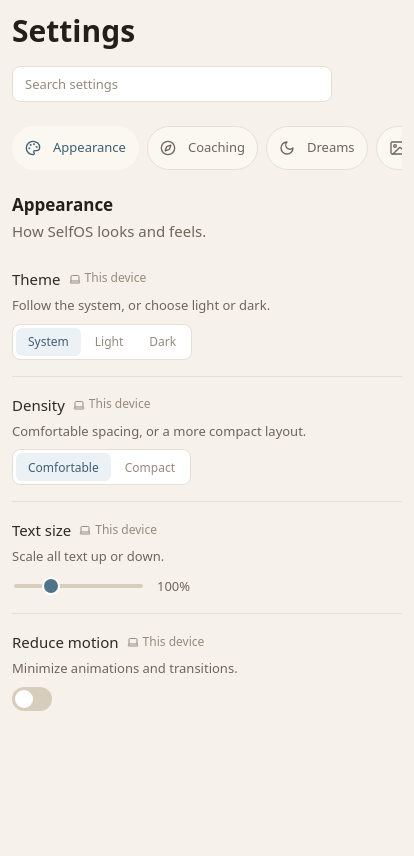
SettingsScreen › filters settings by search query
The image size is (414, 856).
In the field labelled "Search settings": (172,84) [12, 66, 332, 102], type "density"
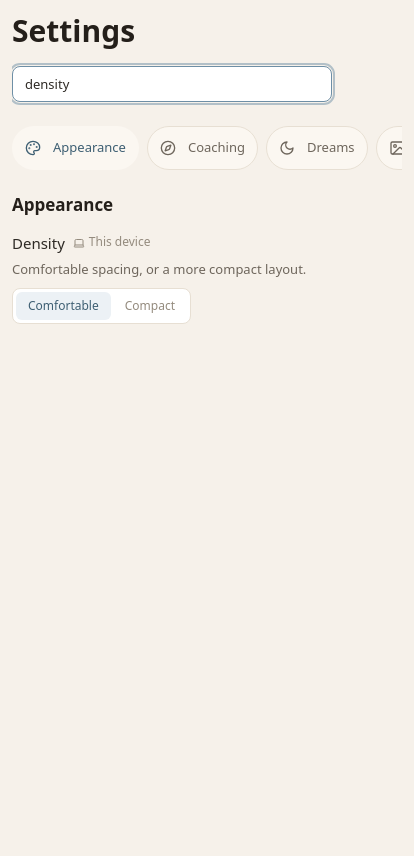
Check: the text "Density" is shown, box [12, 231, 65, 255]
Check: the text "Theme" is gone
